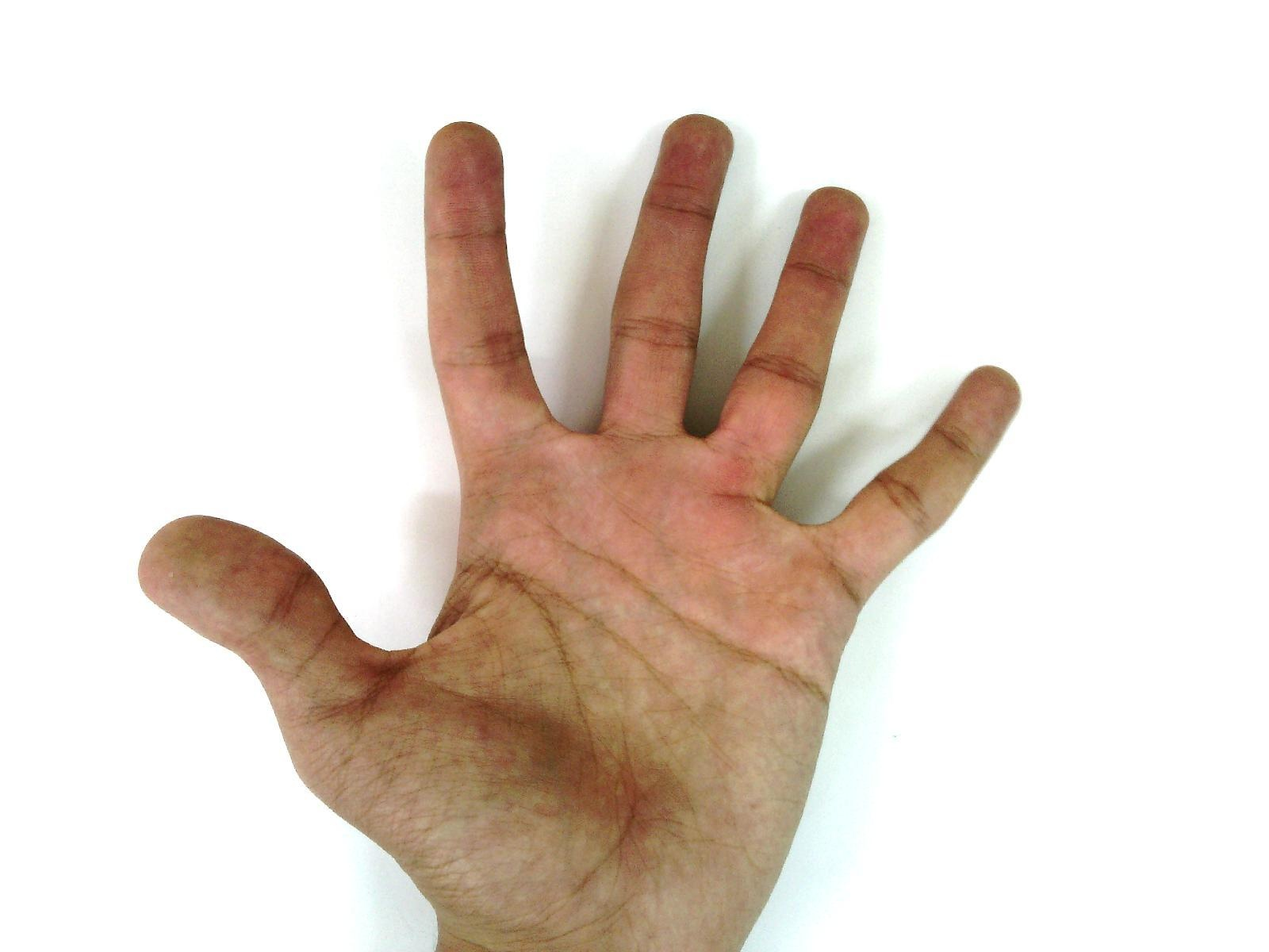open_palm: (136, 112, 1025, 951)
